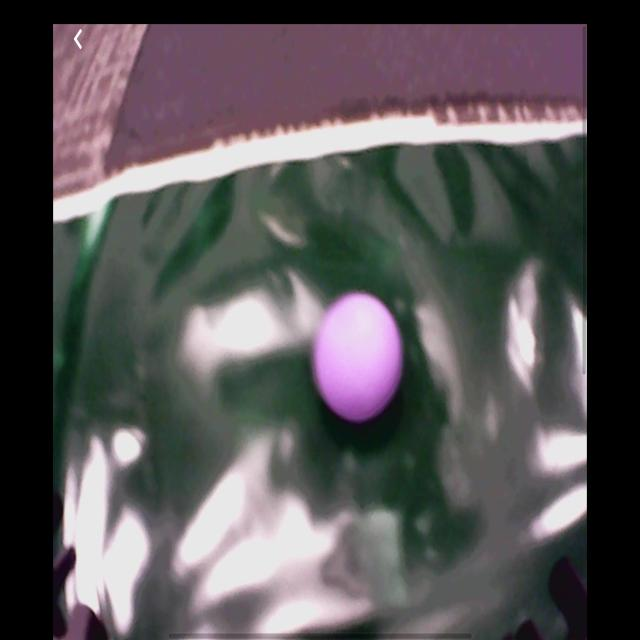ball: (312, 296, 405, 429)
